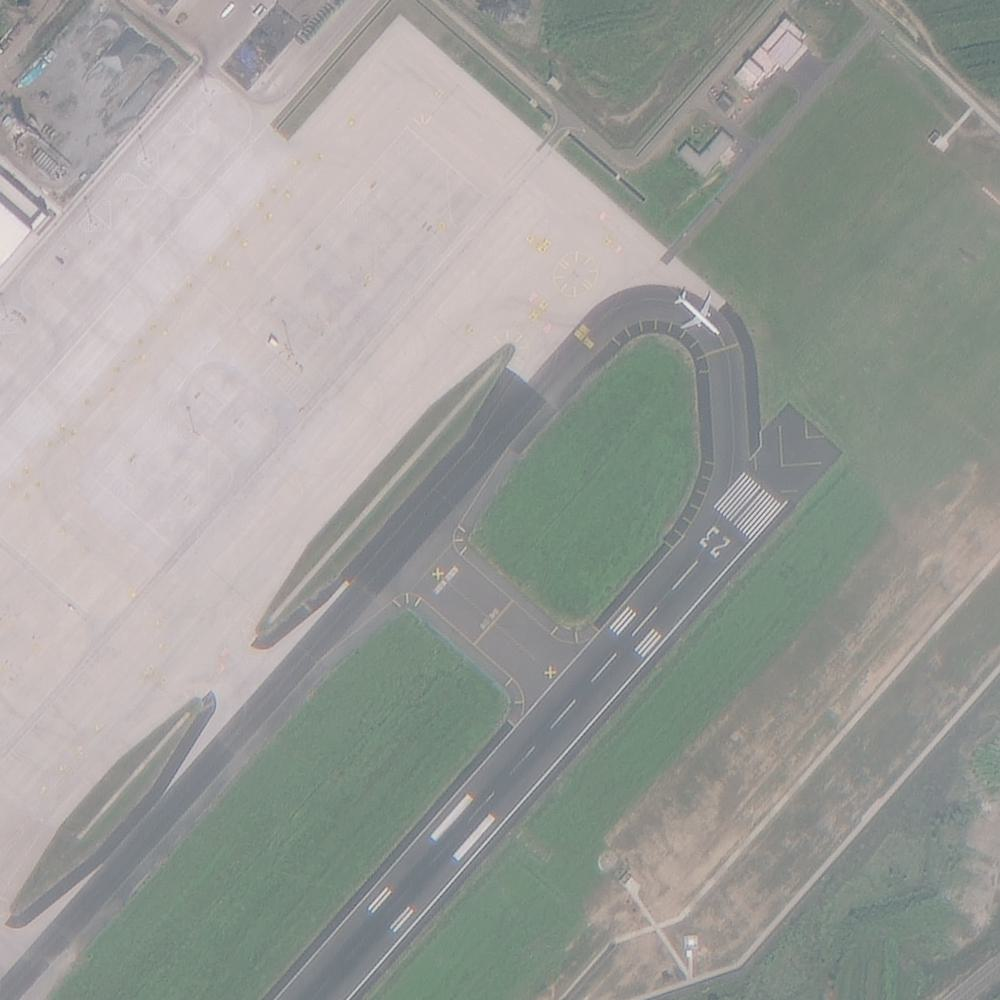A17: (595, 670, 704, 780), (499, 135, 604, 237), (414, 416, 517, 518), (52, 148, 151, 253)
